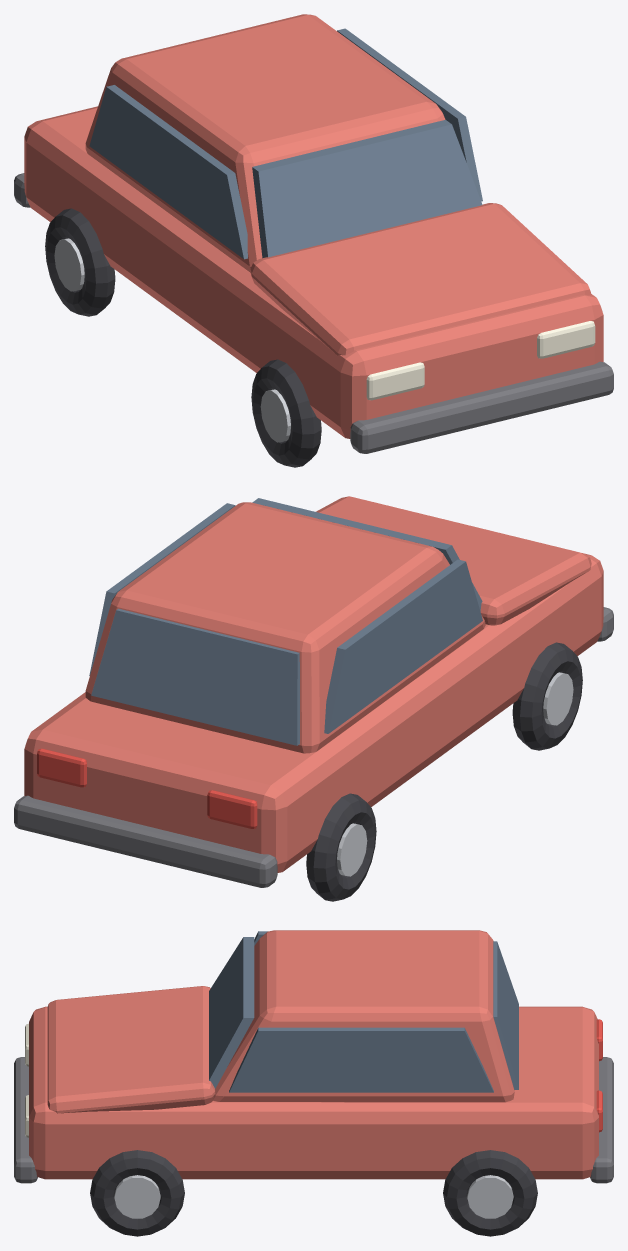
Rendered from CarOuterModel.glb.
The picture shows the model from 3 angles, top to bottom: view 1: azimuth 30°, elevation 25°; view 2: azimuth 150°, elevation 25°; view 3: azimuth 270°, elevation 25°; orthographic projection. The views are drawn at different scales.
Parts seen in each view (by area): view 1: CarOuterModel; view 2: CarOuterModel; view 3: CarOuterModel.
Part boxes in pixels (bbox=[...]): CarOuterModel: bbox=[14, 14, 613, 467]; CarOuterModel: bbox=[14, 496, 613, 901]; CarOuterModel: bbox=[14, 930, 613, 1236].
Bounding box in the file's own units: 2.1 × 1.73 × 4.42.
